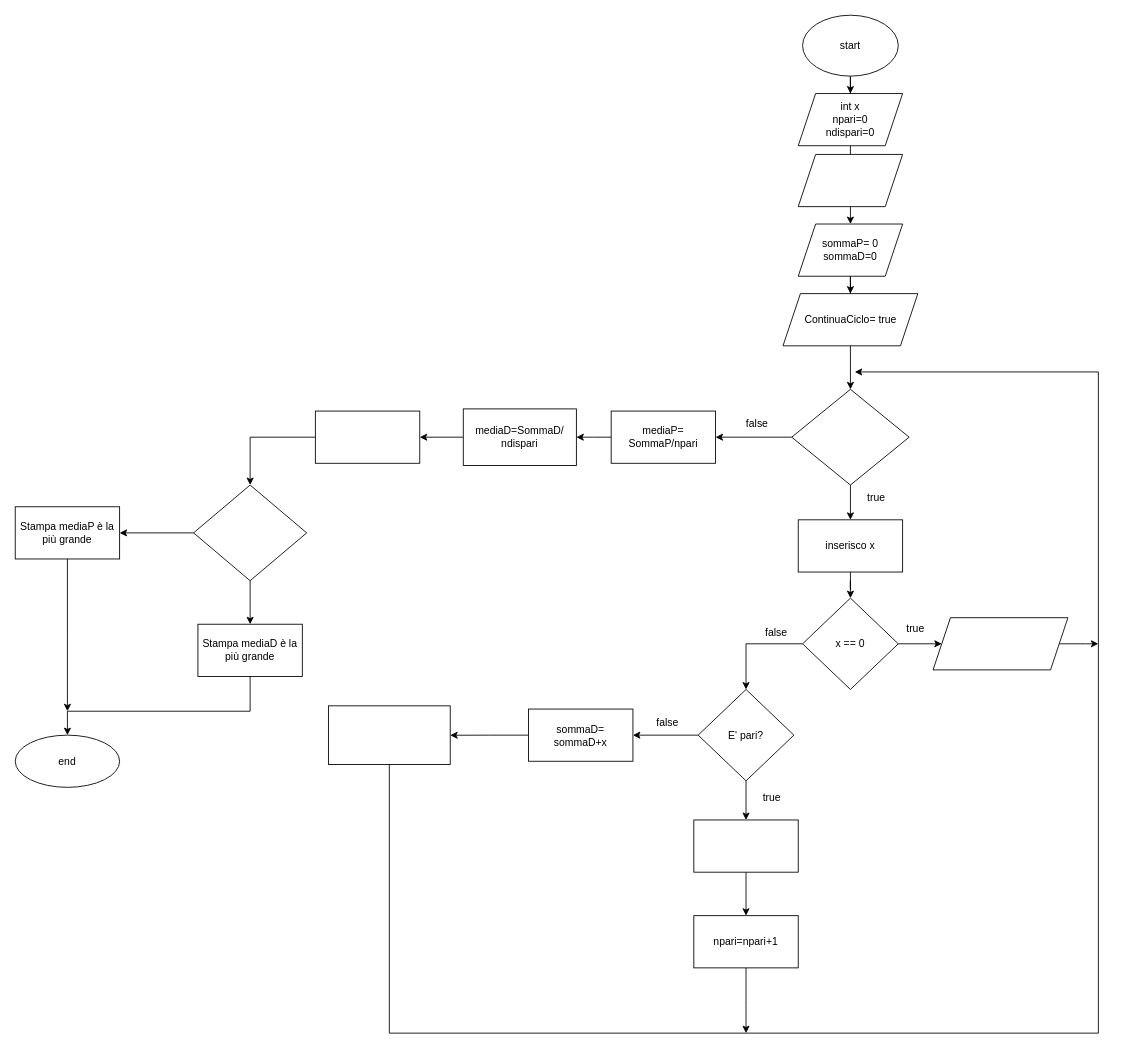
The diagram is 1121 pixels wide and 1055 high, and some of its shapes have lost their labels. The shapes that lost their labels are listed below. From the top down, each one's box as (x1, y1, x2, y2) in pixels, then its label:
(797, 154, 903, 207): mediaP=0 mediaD=0
(315, 410, 420, 463): Stampa mediaD Stampa mediaP
(791, 388, 909, 485): while ContinuaCiclo true
(193, 484, 307, 581): mediaD>mediaP?
(932, 617, 1068, 670): ContinuaCiclo= false
(328, 705, 450, 765): ndispari=ndispari+1
(693, 819, 798, 872): sommaP= SommaP+x
